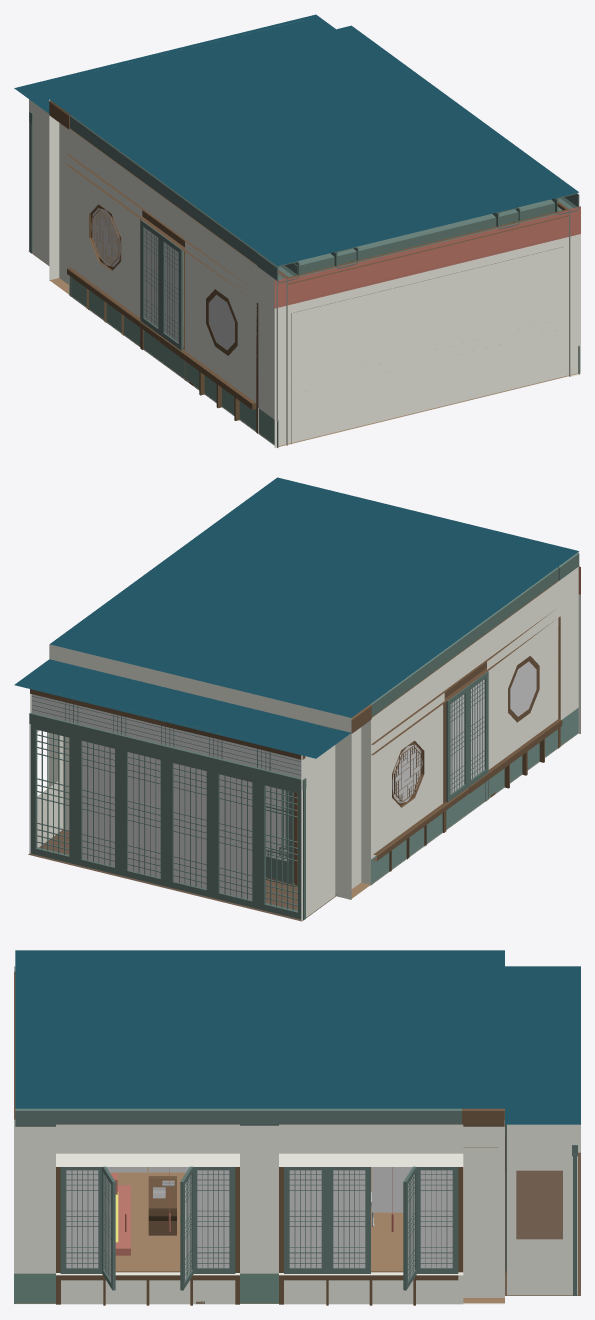
The picture shows the model from 3 angles, top to bottom: view 1: azimuth 30°, elevation 25°; view 2: azimuth 150°, elevation 25°; view 3: azimuth 270°, elevation 25°; orthographic projection. The views are drawn at different scales.
Visible parts, largest first — view 1: polySurface169, polySurface187, polySurface182, polySurface157, pCube91, polySurface86, group15_polySurface22, polySurface167, polySurface152, polySurface21, pCylinder28, polySurface149 (+8 smaller); view 2: polySurface169, polySurface182, polySurface21 (×2), polySurface154, polySurface152, polySurface168, group12_polySurface41, group12_polySurface40, polySurface86, polySurface176, polySurface175, polySurface177 (+21 smaller); view 3: polySurface169, polySurface186, polySurface151, polySurface162, polySurface185, polySurface187, Dummy_Floor, group11_polySurface20, polySurface150, polySurface27, polySurface188, polySurface29 (+20 smaller).
Part boxes in pixels (left/top/right/bottom): polySurface169: left=14, top=14, right=578, bottom=265; polySurface187: left=258, top=210, right=580, bottom=447; polySurface182: left=69, top=129, right=277, bottom=421; polySurface157: left=274, top=206, right=580, bottom=308; pCube91: left=294, top=199, right=557, bottom=276; polySurface86: left=69, top=276, right=278, bottom=447; group15_polySurface22: left=140, top=220, right=183, bottom=350; polySurface167: left=70, top=115, right=299, bottom=283; polySurface152: left=29, top=99, right=49, bottom=265; polySurface21: left=144, top=228, right=178, bottom=342; pCylinder28: left=278, top=201, right=569, bottom=443; polySurface149: left=49, top=115, right=59, bottom=281; polySurface169: left=14, top=477, right=578, bottom=758; polySurface182: left=371, top=566, right=579, bottom=859; polySurface21 (×2): left=173, top=679, right=484, bottom=889; polySurface154: left=31, top=694, right=301, bottom=777; polySurface152: left=301, top=745, right=335, bottom=920; polySurface168: left=49, top=644, right=351, bottom=732; group12_polySurface41: left=258, top=779, right=305, bottom=919; group12_polySurface40: left=29, top=724, right=75, bottom=864; polySurface86: left=371, top=708, right=578, bottom=884; polySurface176: left=128, top=752, right=160, bottom=877; polySurface175: left=219, top=774, right=252, bottom=900; polySurface177: left=82, top=741, right=114, bottom=866; polySurface169: left=15, top=950, right=580, bottom=1124; polySurface186: left=56, top=1124, right=504, bottom=1304; polySurface151: left=507, top=1124, right=577, bottom=1295; polySurface162: left=15, top=1108, right=461, bottom=1126; polySurface185: left=463, top=1120, right=504, bottom=1297; polySurface187: left=14, top=1119, right=55, bottom=1304; Dummy_Floor: left=15, top=1167, right=504, bottom=1303; group11_polySurface20: left=56, top=1124, right=462, bottom=1305; polySurface150: left=505, top=1152, right=580, bottom=1295; polySurface27: left=420, top=1170, right=452, bottom=1267; polySurface188: left=197, top=1170, right=229, bottom=1267; polySurface29: left=333, top=1170, right=365, bottom=1267.
Size of the model in its own units: 564 by 288 by 757.
